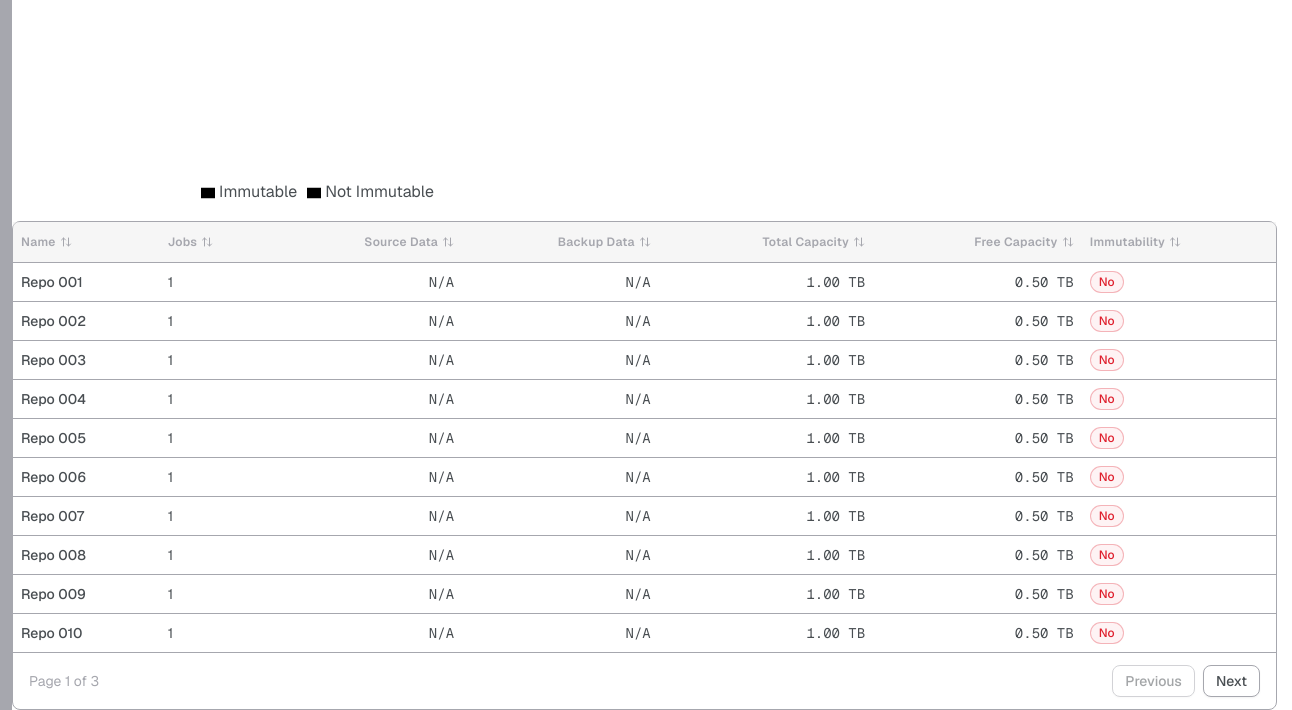
Test: Standard Repositories pagination › navigates to next page in standard repos
(page scrolled)
Click the button "Next": (1231, 680) [1203,664,1260,696]
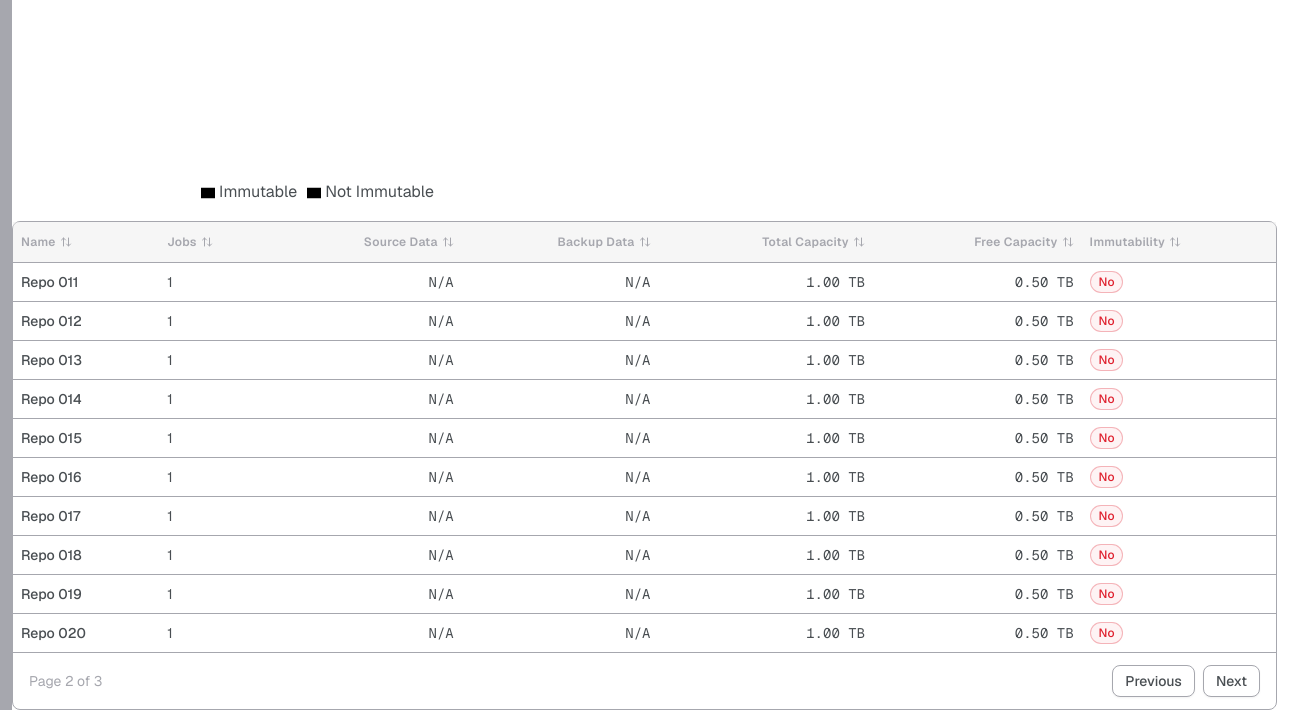
Check: the text "Repo 011" is shown, box [21,272,78,290]
Check: the button "Repo 001" is gone
Check: the text "Page 2 of 3" is shown, box [29,670,102,690]
